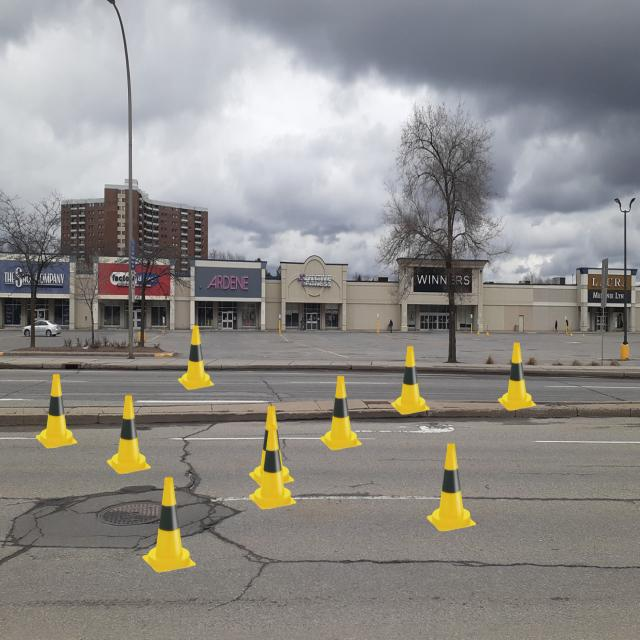yellow_cone: (142, 477, 196, 572), (427, 443, 476, 532), (249, 425, 296, 510), (249, 406, 294, 487), (107, 395, 151, 474), (36, 374, 78, 449), (320, 376, 362, 450), (391, 346, 430, 415), (498, 342, 536, 410), (178, 325, 214, 390)
